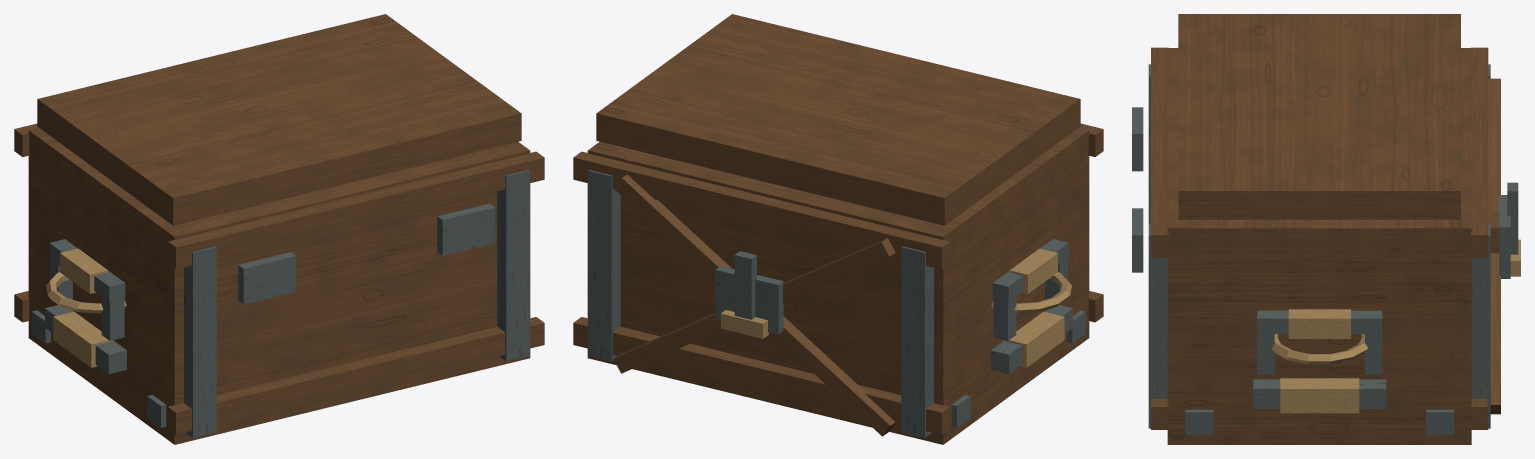
Rendered from pr-020_shared_carry_heavy_box__carried.obj.
3 views of the same model, side by side, from view 1: azimuth 30°, elevation 25°; view 2: azimuth 150°, elevation 25°; view 3: azimuth 270°, elevation 25° (orthographic). The views are drawn at different scales.
Parts seen in each view (by area): view 1: pr-020_shared_carry_heavy_box__carried; view 2: pr-020_shared_carry_heavy_box__carried; view 3: pr-020_shared_carry_heavy_box__carried.
Boxes of the visible parts, box(x1,y1,x2,y2) form: pr-020_shared_carry_heavy_box__carried: box(14, 14, 544, 444); pr-020_shared_carry_heavy_box__carried: box(573, 14, 1103, 444); pr-020_shared_carry_heavy_box__carried: box(1132, 14, 1520, 444).
Size of the model in its own units: 1.72 by 0.8786 by 1.23.
3 materials, 3 textured.
